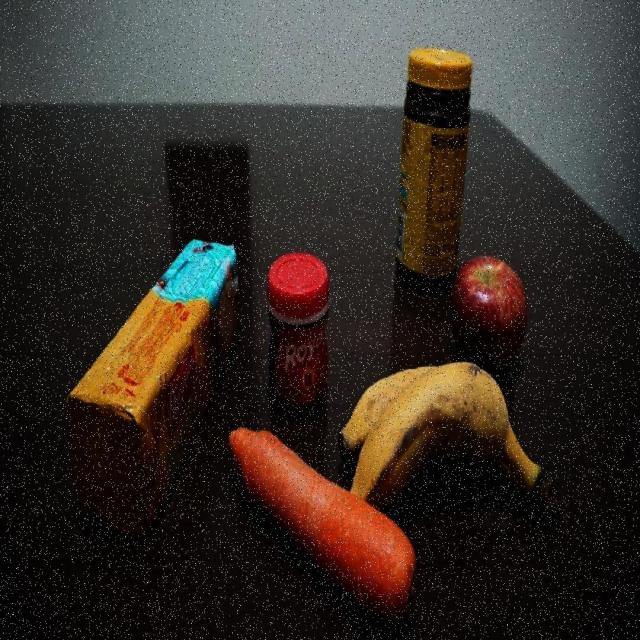Apple: (452, 256, 530, 354)
Banana: (341, 364, 570, 502)
Carrot: (240, 416, 336, 578)
ChocolatePowder: (402, 46, 471, 246)
Cracker: (69, 234, 237, 537)
Yeast: (265, 252, 332, 416)
